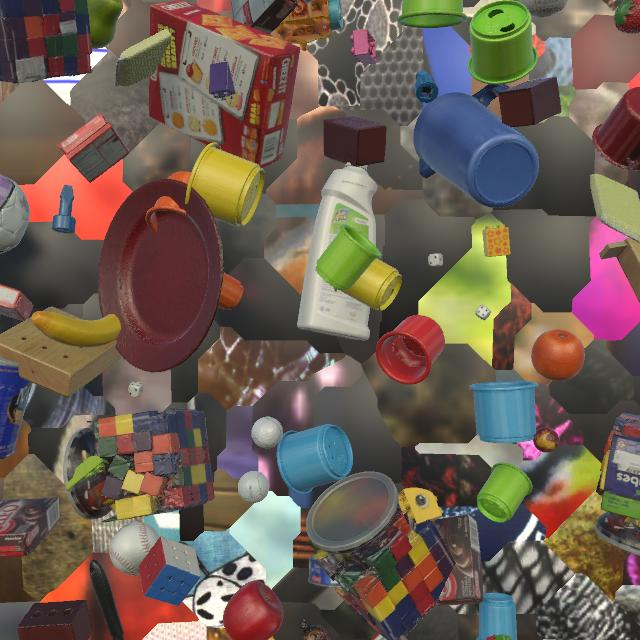ycb_002_master_chef_can: (0, 357, 33, 459)
ycb_003_cracker_box: (149, 0, 301, 169), (371, 633, 408, 640)
ycb_007_tuna_fish_can: (308, 554, 341, 588)
ycb_008_pudding_box: (433, 514, 484, 606), (0, 497, 60, 557), (230, 0, 298, 35)
ycb_009_gelatin_box: (57, 113, 130, 183), (0, 284, 34, 321)
ycb_011_banana: (31, 293, 130, 347)
ycb_012_strawberry: (614, 0, 640, 34), (486, 634, 513, 640)
ycb_013_apple: (223, 581, 284, 640)
ycb_016_pear: (87, 0, 123, 49)
ycb_017_orange: (531, 329, 585, 381)
